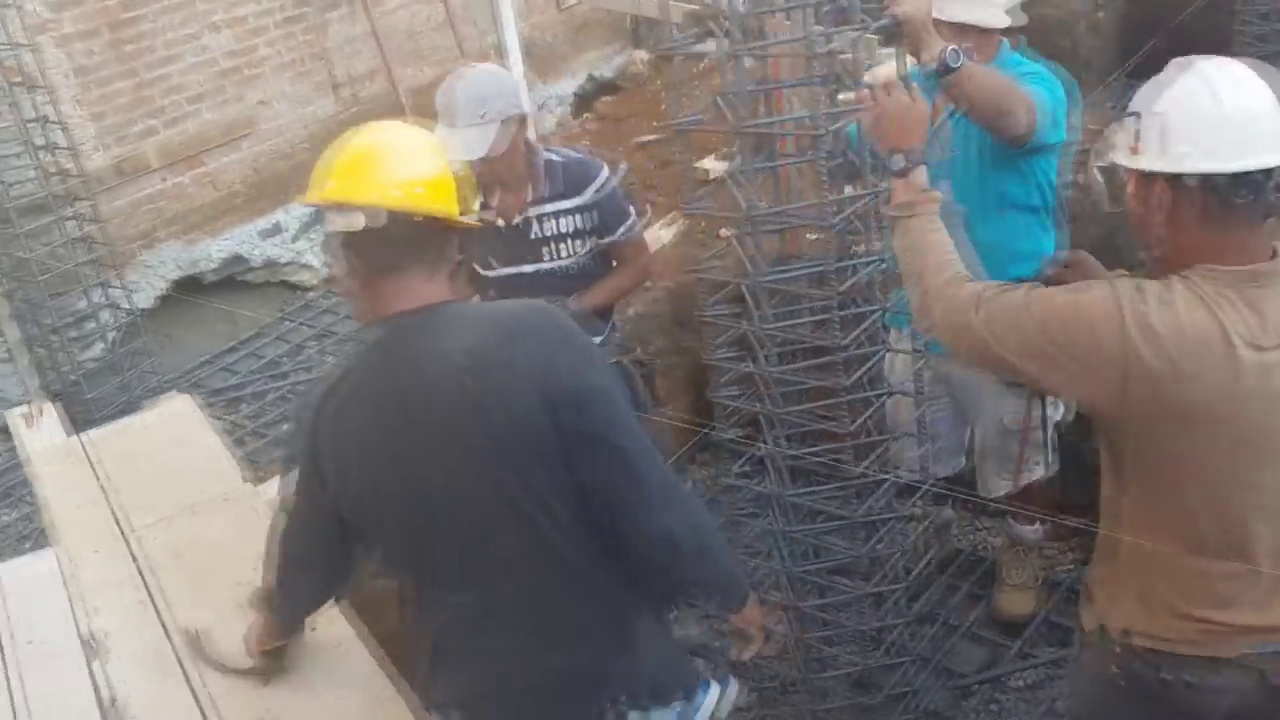helmet: (1096, 52, 1280, 207), (295, 106, 488, 239)
helmet-off: (435, 60, 543, 206), (884, 1, 1022, 73)
helmet-on: (1092, 44, 1280, 293), (291, 107, 489, 314)
person: (225, 84, 751, 715), (866, 46, 1280, 704), (849, 1, 1077, 632), (431, 61, 646, 319)
